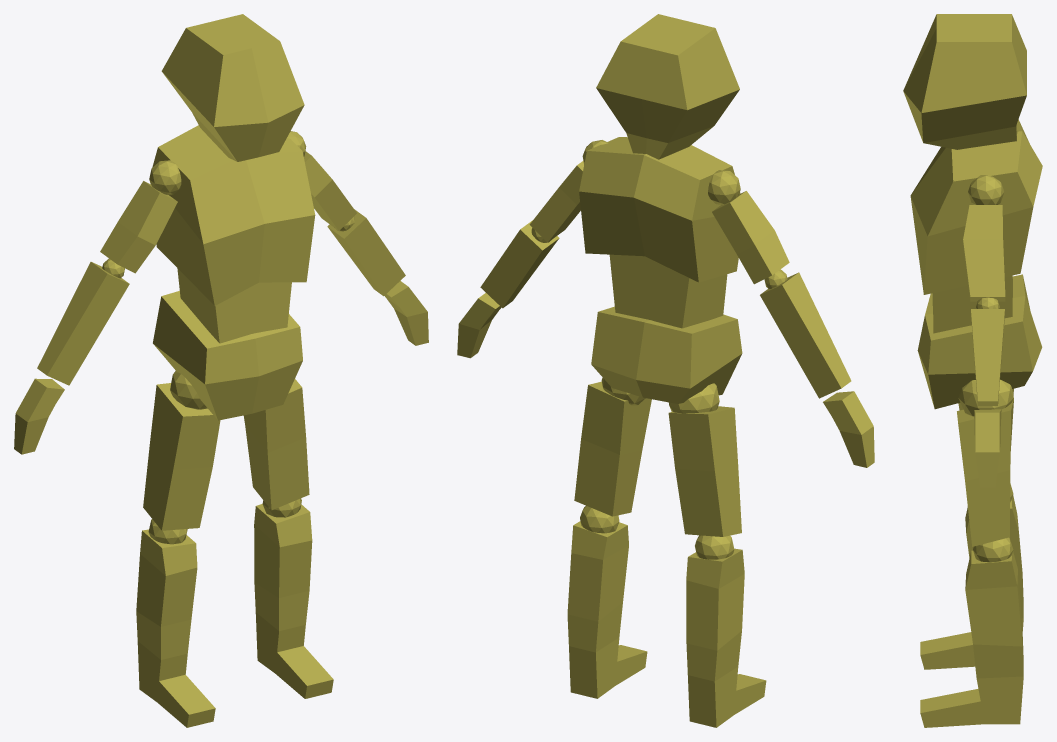
The model's file is basicPerson.fbx.
3 views of the same model, side by side, from view 1: azimuth 30°, elevation 25°; view 2: azimuth 150°, elevation 25°; view 3: azimuth 270°, elevation 25° (orthographic).
Visible parts, largest first — view 1: Icosphere.005; view 2: Icosphere.005; view 3: Icosphere.005.
Boxes of the visible parts, x1,y1,x2,y2 form: Icosphere.005: [14, 14, 428, 727]; Icosphere.005: [457, 14, 874, 727]; Icosphere.005: [903, 14, 1042, 727].
Size of the model in its own units: 184 by 284 by 54.15.
